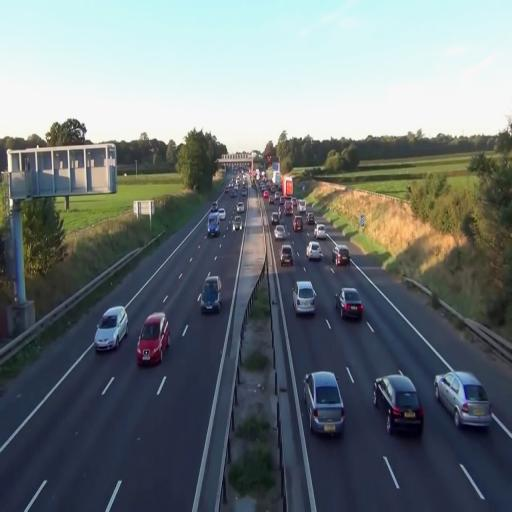vehicle: (434, 370, 492, 431), (372, 372, 425, 436), (304, 371, 346, 437), (135, 312, 170, 367), (94, 304, 129, 353), (336, 286, 364, 321), (198, 274, 222, 314), (293, 280, 317, 317), (206, 210, 222, 237), (333, 244, 350, 268), (280, 244, 294, 268), (307, 240, 322, 260)
